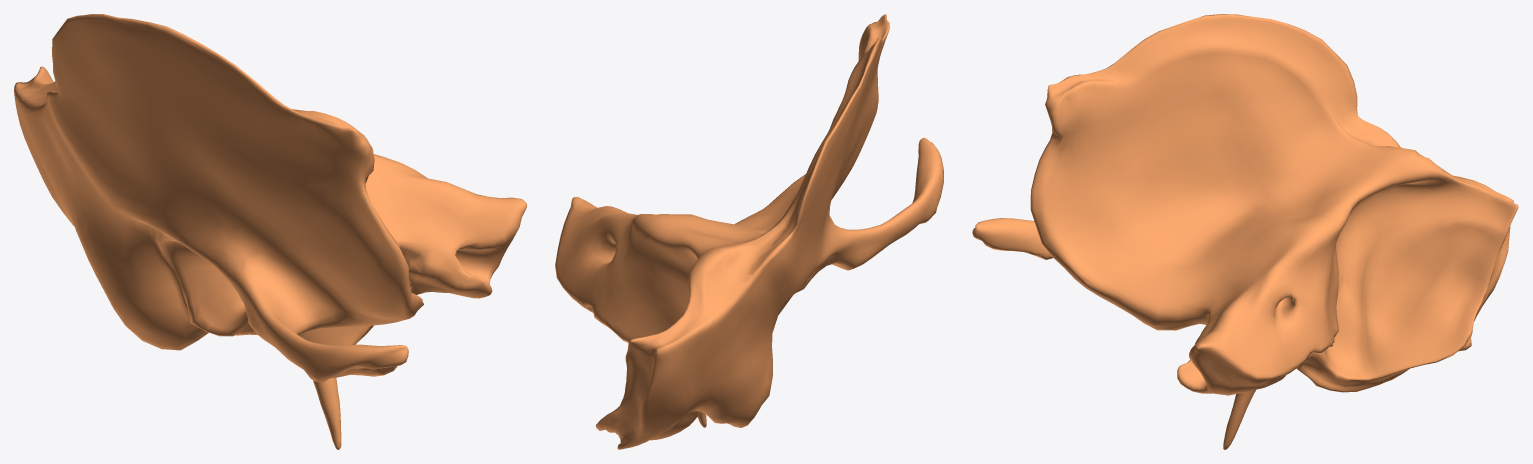
Rendered from Temporal_Derecho.glb.
3 views of the same model, side by side, from view 1: azimuth 30°, elevation 25°; view 2: azimuth 150°, elevation 25°; view 3: azimuth 270°, elevation 25° (orthographic). The views are drawn at different scales.
Parts seen in each view (by area): view 1: Temporal Derecho; view 2: Temporal Derecho; view 3: Temporal Derecho.
Boxes of the visible parts, bbox=[...] form: Temporal Derecho: bbox=[14, 14, 526, 449]; Temporal Derecho: bbox=[555, 14, 943, 449]; Temporal Derecho: bbox=[972, 14, 1518, 449].
Size of the model in its own units: 0.0604 by 0.0724 by 0.0981.
